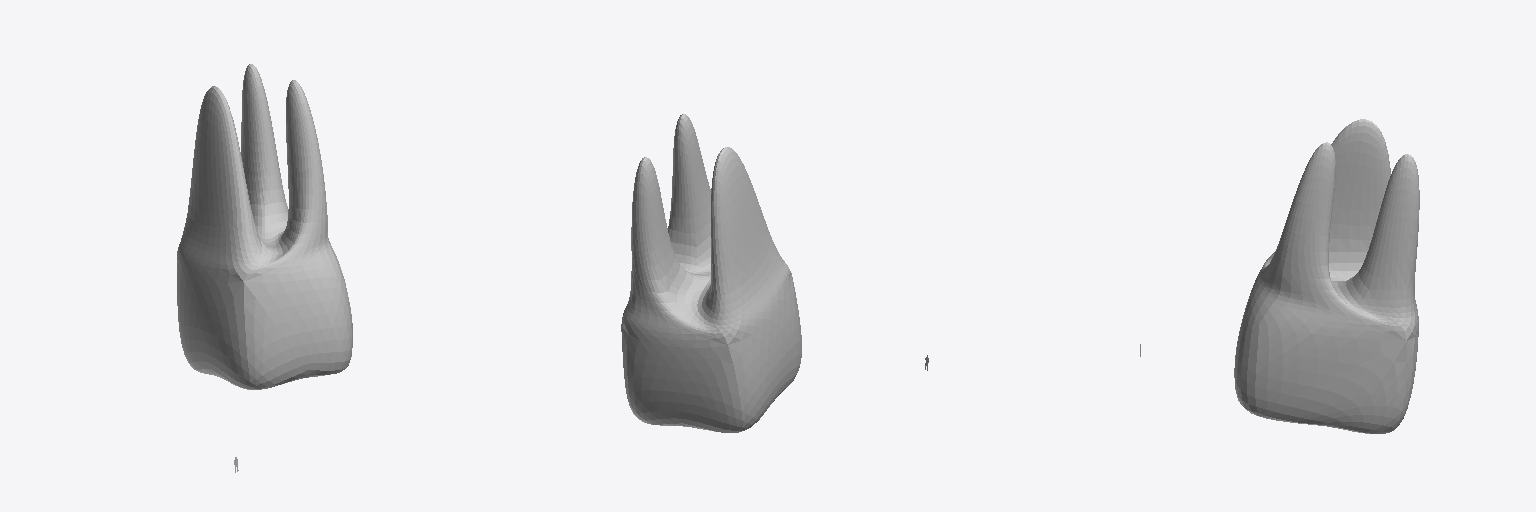
The picture shows the model from 3 angles: view 1: azimuth 30°, elevation 25°; view 2: azimuth 150°, elevation 25°; view 3: azimuth 270°, elevation 25°; orthographic projection.
Visible parts, largest first — view 1: Mesh1 Group1 Model; view 2: Mesh1 Group1 Model; view 3: Mesh1 Group1 Model.
Part boxes in pixels (x1,y1,x2,y2): Mesh1 Group1 Model: (177, 64, 352, 389); Mesh1 Group1 Model: (621, 114, 801, 432); Mesh1 Group1 Model: (1234, 119, 1419, 433).
Size of the model in its own units: 21.92 by 32.89 by 28.95.